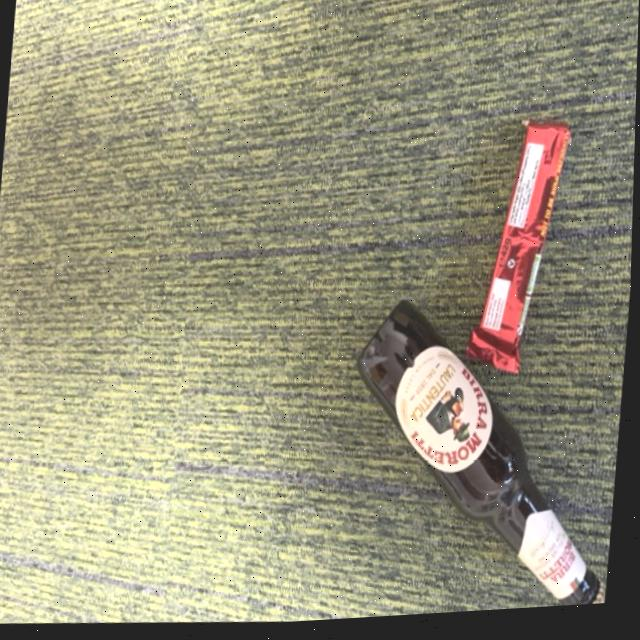beer: (326, 287, 633, 624)
chocolate: (454, 105, 585, 387)
